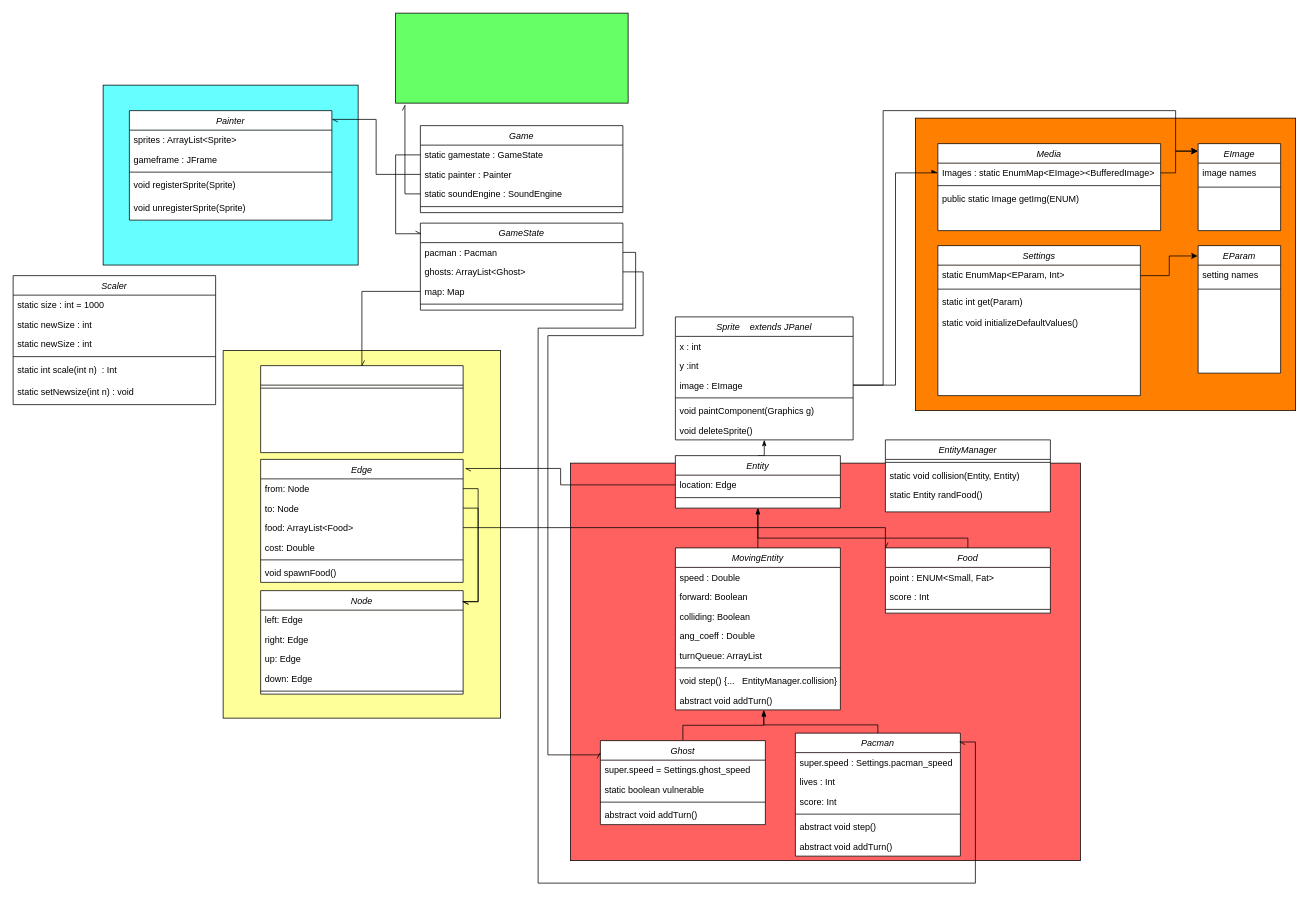
Image size: 1309x902. Some labels were removed from this diagram. The centre of each missing label's shape, as x and y in pixels:
"Map" belongs at (x=361, y=409).
"SoundEngine" belongs at (x=511, y=57).
